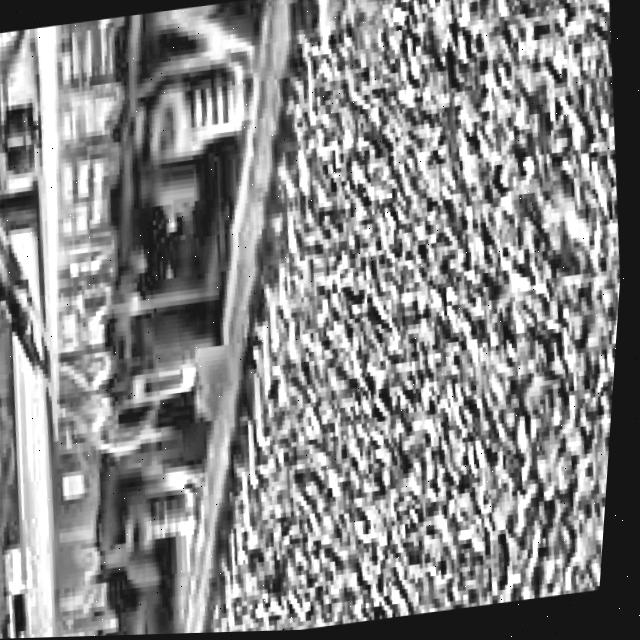Gerbong: (0, 0, 377, 492), (0, 115, 266, 640)
